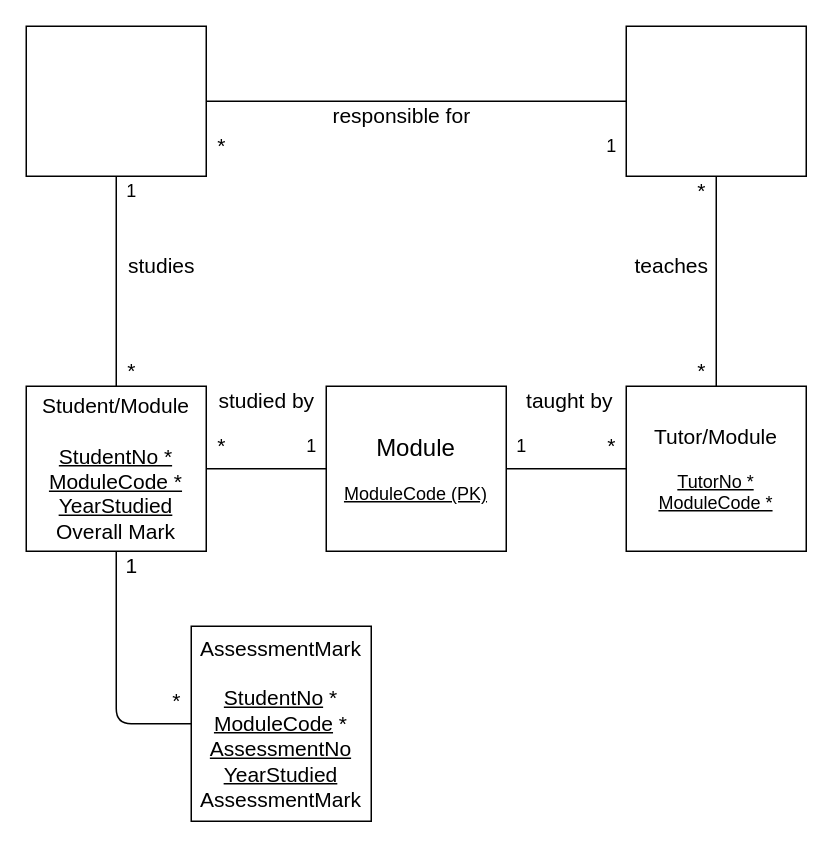
Image size: 833x848. Some labels were removed from this diagram. Each missing label, with the box of its shape:
Student StudentNo (PK) TutorNo * (FK): (25, 25, 206, 176)
Tutor TutorNo (PK): (625, 25, 806, 176)
